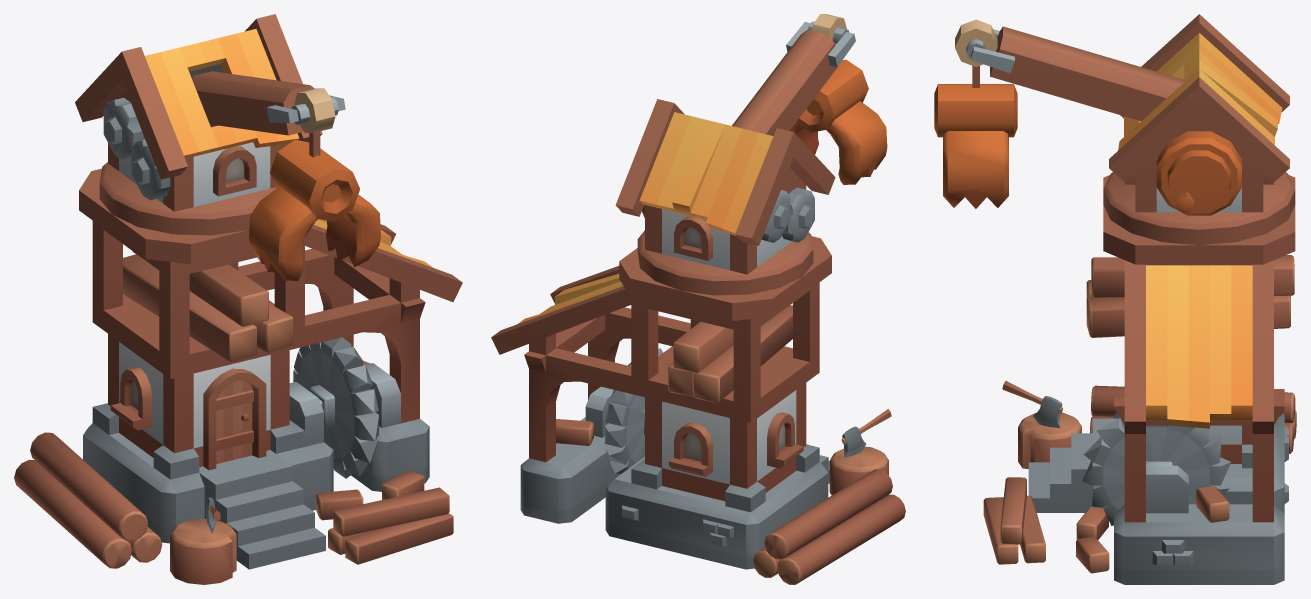
Rendered from building_lumbermill_yellow.glb.
3 views of the same model, side by side, from view 1: azimuth 30°, elevation 25°; view 2: azimuth 150°, elevation 25°; view 3: azimuth 270°, elevation 25° (orthographic). The views are drawn at different scales.
Visible parts, largest first — view 1: building_lumbermill_yellow, building_lumbermill_top_yellow, building_lumbermill_saw_yellow; view 2: building_lumbermill_yellow, building_lumbermill_top_yellow, building_lumbermill_saw_yellow; view 3: building_lumbermill_yellow, building_lumbermill_top_yellow, building_lumbermill_saw_yellow.
Boxes of the visible parts, x1,y1,x2,y2 form: building_lumbermill_yellow: (14, 168, 462, 584); building_lumbermill_top_yellow: (75, 14, 380, 280); building_lumbermill_saw_yellow: (293, 337, 378, 478); building_lumbermill_yellow: (491, 236, 905, 584); building_lumbermill_top_yellow: (615, 14, 887, 295); building_lumbermill_saw_yellow: (605, 348, 662, 474); building_lumbermill_yellow: (983, 175, 1296, 584); building_lumbermill_top_yellow: (934, 14, 1295, 245); building_lumbermill_saw_yellow: (1082, 417, 1231, 525).
Bounding box in the file's own units: 1.37 × 1.71 × 1.19.
1 material, 1 textured.
